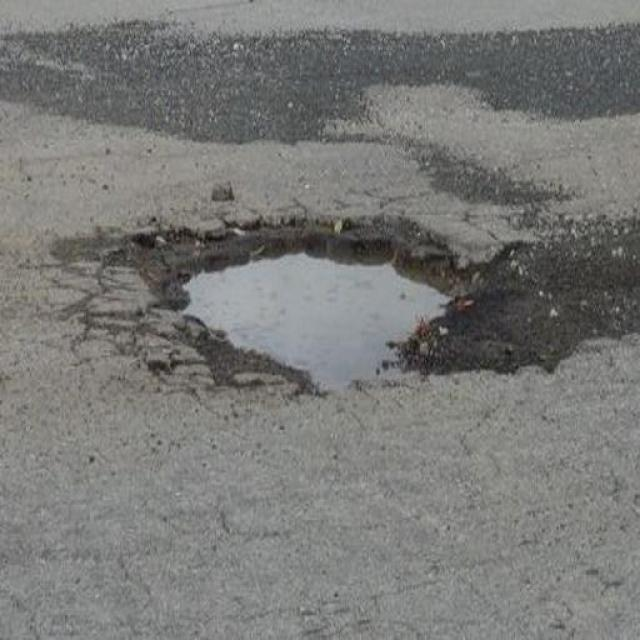puddle: (201, 260, 418, 359)
